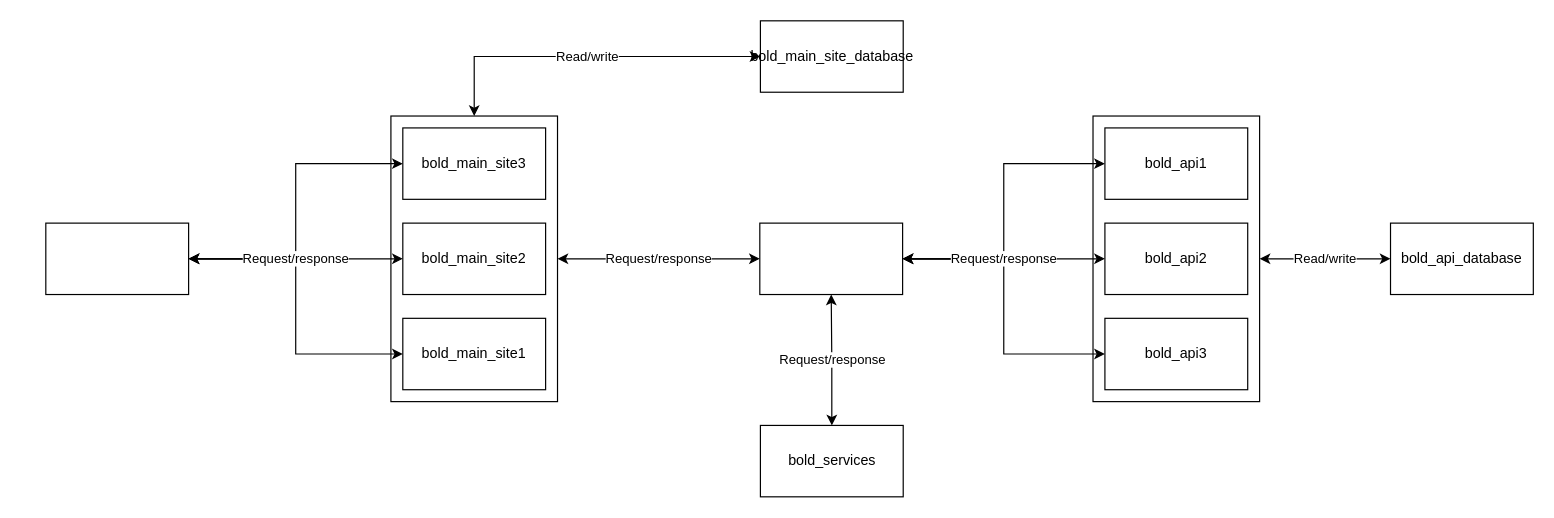
This 1554x518 diagram has some shape labels left out. Here are the shapes that lost their labels. From the top down, the box of each, then its label:
(45, 222, 189, 295): bold_main_site_load_balancer
(759, 222, 903, 295): bold_api_load_balancer
